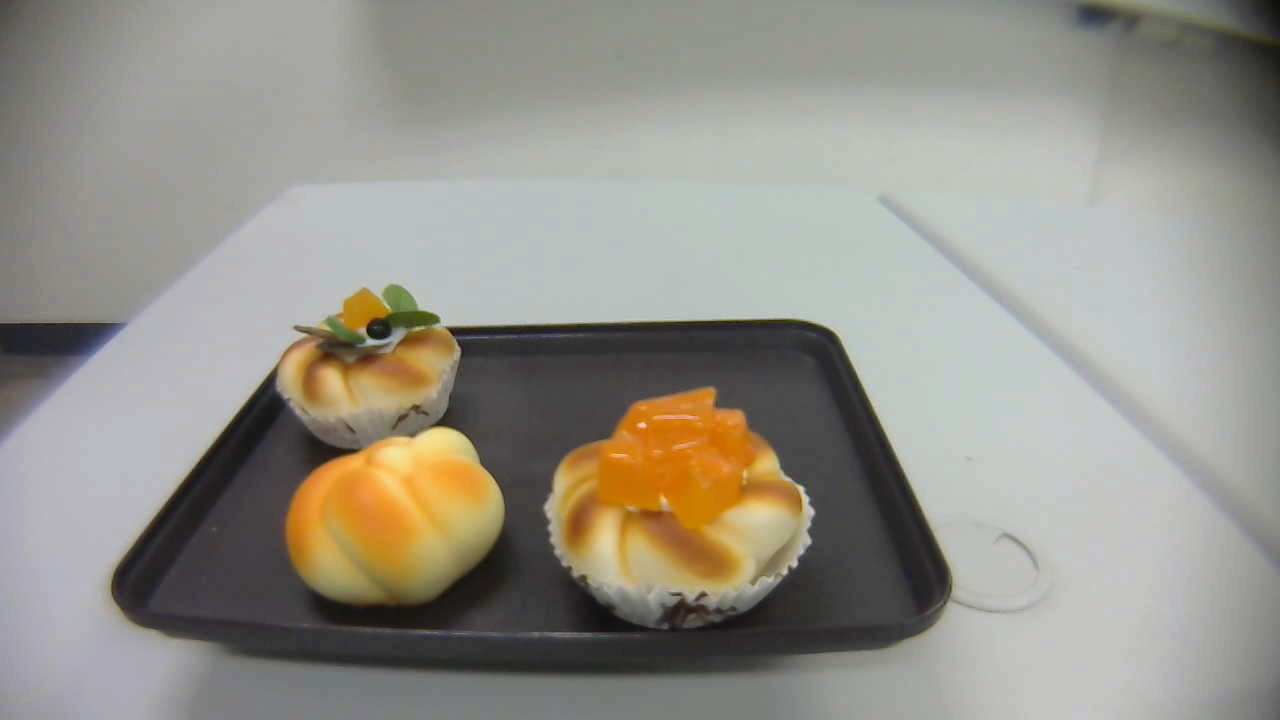fruit tart: (277, 282, 461, 449)
mango tart: (545, 386, 817, 630)
twist bread: (284, 427, 506, 608)
